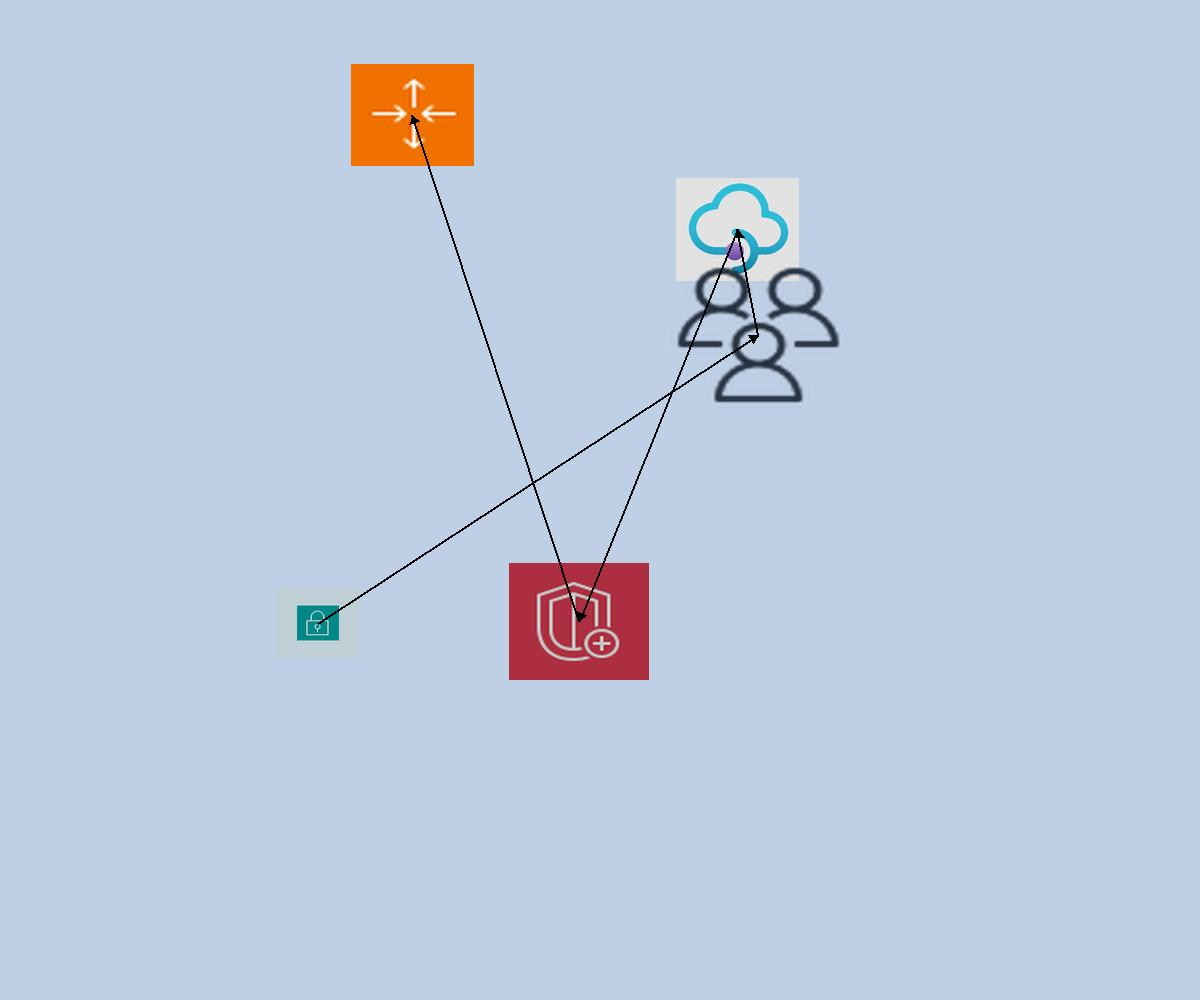AWS-Private-subnet: (276, 588, 360, 658)
AWS-Res_Users: (671, 262, 846, 408)
AWS-Scaling-group: (351, 64, 474, 166)
AWS-Shield: (509, 563, 649, 680)
Azure_api_gateway: (676, 178, 799, 281)
